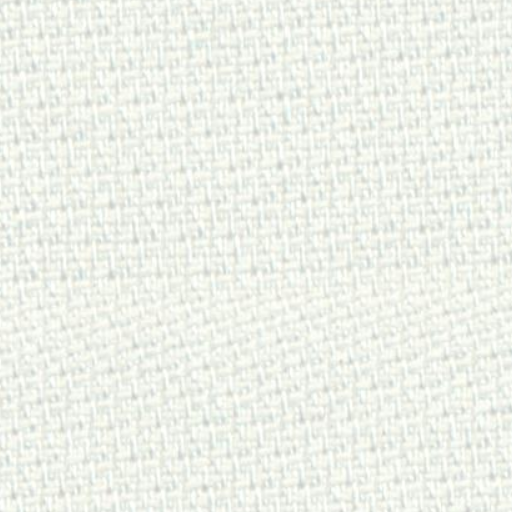TuoSha: (16, 252, 496, 491)
